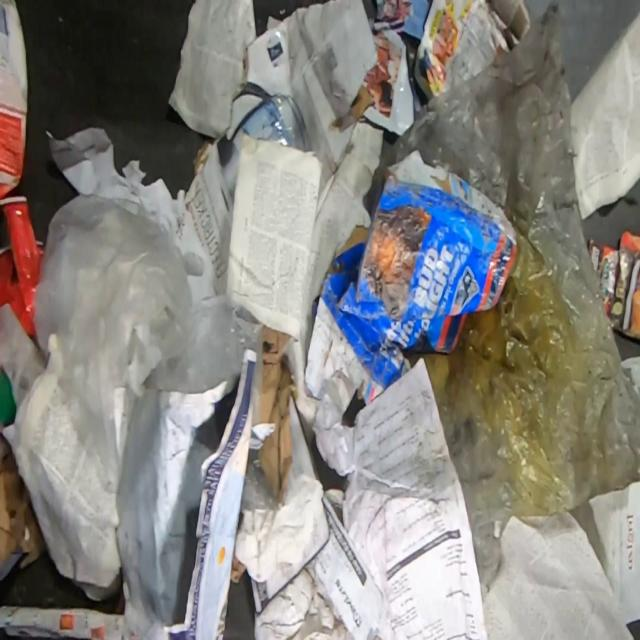cardboard: (184, 0, 380, 295), (303, 148, 517, 407), (590, 228, 640, 345)
rigid_plastic: (0, 195, 44, 338)
soft_plastic: (389, 0, 640, 590), (34, 193, 262, 495), (240, 447, 281, 511)
